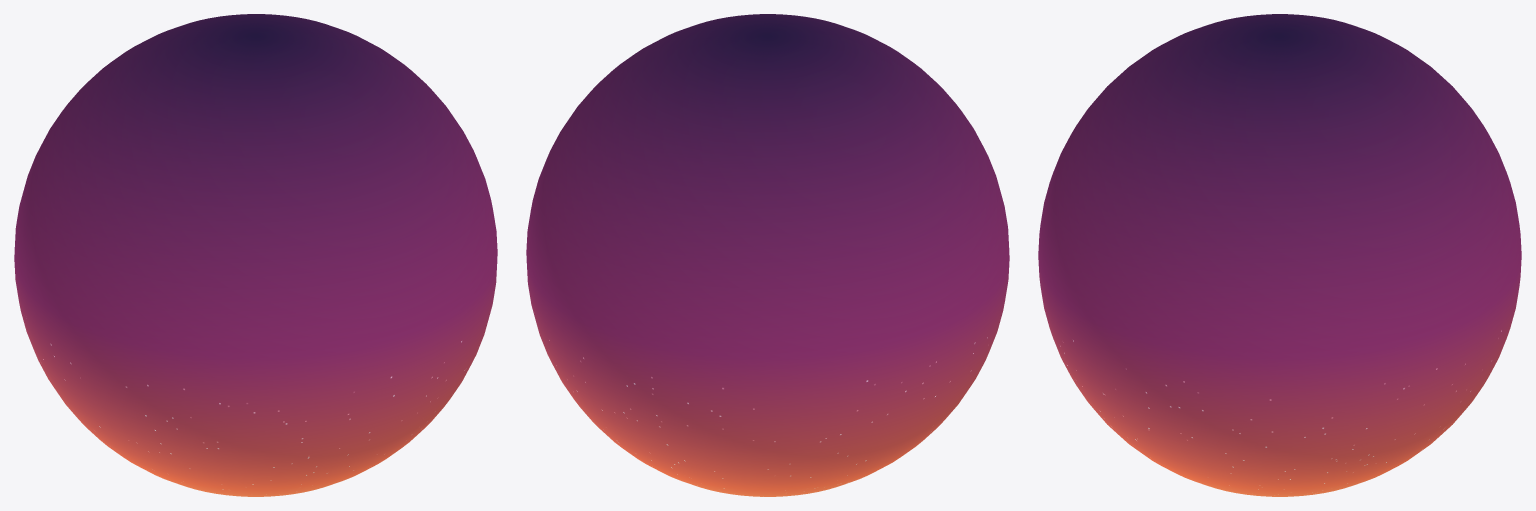
Rendered from hyderabad.glb.
The picture shows the model from 3 angles, left to right: view 1: azimuth 30°, elevation 25°; view 2: azimuth 150°, elevation 25°; view 3: azimuth 270°, elevation 25°; orthographic projection.
Parts seen in each view (by area): view 1: SkyDome; view 2: SkyDome; view 3: SkyDome.
Part boxes in pixels (bbox=[...]): SkyDome: bbox=[14, 14, 497, 496]; SkyDome: bbox=[526, 14, 1009, 496]; SkyDome: bbox=[1038, 14, 1521, 496].
Size of the model in its own units: 2400 by 2400 by 2400.
Materials: 18 (18 with a texture image).
